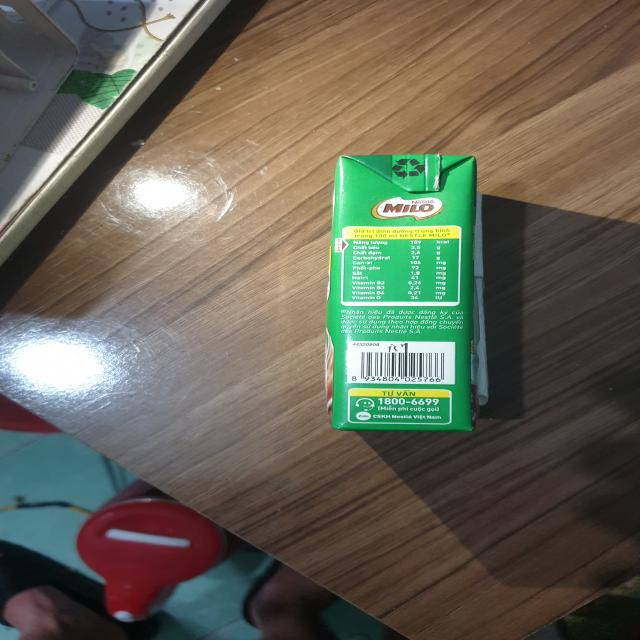Milo: (323, 152, 484, 436)
